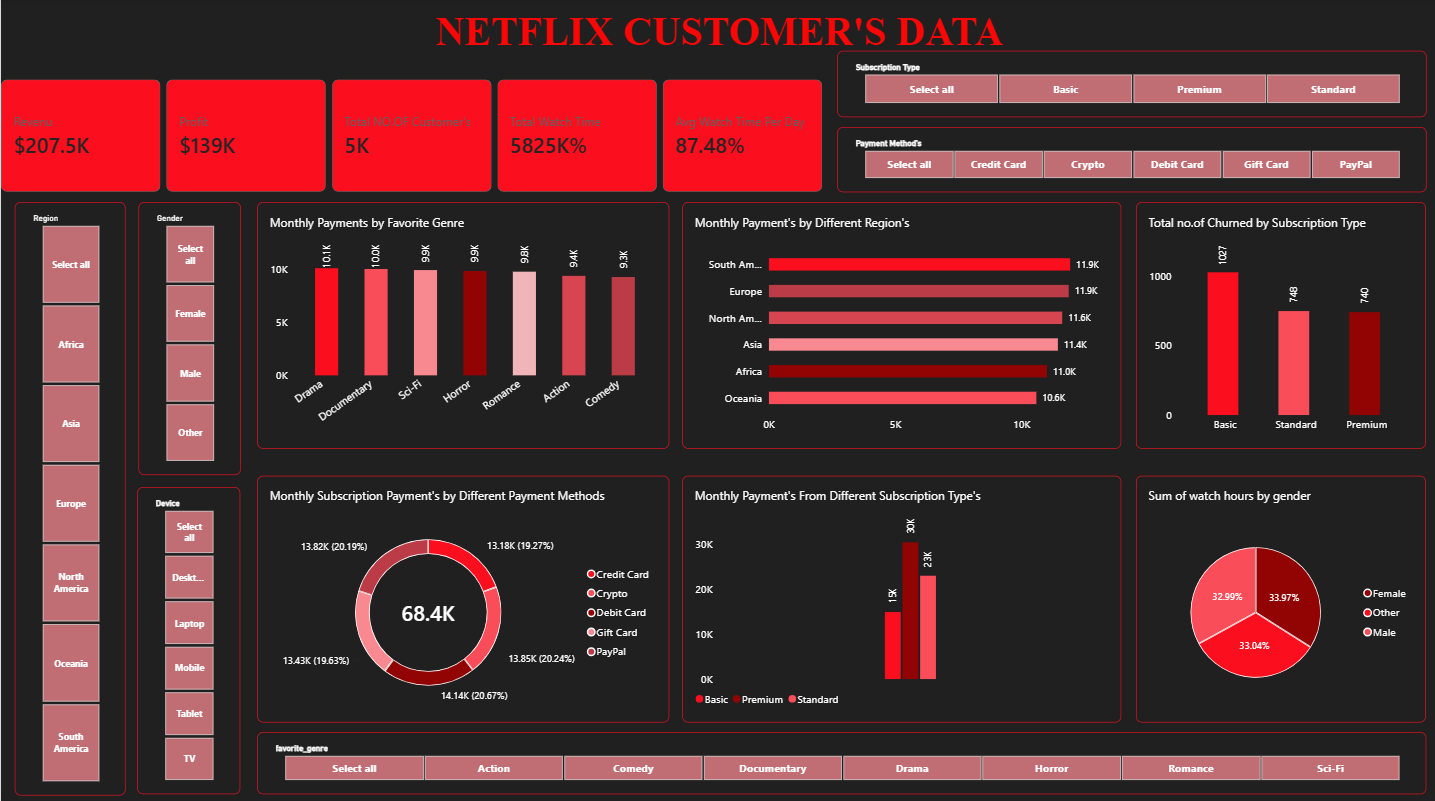

Layout of this report page (visuals, bound fields, positions):
{"tool":"powerbi","page":{"name":"Dashboard","canvas":[1920,1080],"ordinal":0},"visuals":[{"type":"textbox","box":[0,16.3,1920.1,68.8],"z":0},{"type":"cardVisual","fields":{"Data":["Measure.Revenu","Measure.Profit","Measure.Total NO.OF Customer's","Measure.Total Watch Time","Avg(netflix_customer_churn.avg_watch_time_per_day)"]},"box":[0,110,1098.5,150.2],"z":1000},{"type":"pieChart","fields":{"Category":["netflix_customer_churn.gender"],"Y":["Sum(netflix_customer_churn.watch_hours)"]},"box":[1516.5,638.8,387.3,329.4],"z":2000},{"type":"donutChart","fields":{"Series":["netflix_customer_churn.payment_method"],"Y":["Sum(netflix_customer_churn.monthly_fee)"]},"box":[342,638.8,550.1,329.4],"z":3000},{"type":"clusteredBarChart","fields":{"Category":["netflix_customer_churn.region"],"Y":["Sum(netflix_customer_churn.monthly_fee)"]},"box":[910.3,273.3,586.3,329.4],"z":4000},{"type":"clusteredColumnChart","fields":{"Series":["netflix_customer_churn.subscription_type"],"Y":["Sum(netflix_customer_churn.monthly_fee)"]},"box":[910.3,638.8,586.3,329.4],"z":5000},{"type":"clusteredColumnChart","fields":{"Category":["netflix_customer_churn.subscription_type"],"Y":["Sum(netflix_customer_churn.churned)"]},"box":[1516.5,273.3,387.3,329.4],"z":6000},{"type":"columnChart","fields":{"Category":["netflix_customer_churn.favorite_genre"],"Y":["Sum(netflix_customer_churn.monthly_fee)"]},"box":[342,273.3,550.1,329.4],"z":7000},{"type":"slicer","fields":{"Values":["netflix_customer_churn.gender"]},"box":[183.3,273.3,136.7,365],"z":8000},{"type":"slicer","fields":{"Values":["netflix_customer_churn.region"]},"box":[18.1,273.3,148.4,792.6],"z":8001},{"type":"slicer","fields":{"Values":["netflix_customer_churn.subscription_type"]},"box":[1116.6,72.4,787.2,88.7],"z":8002},{"type":"slicer","fields":{"Values":["netflix_customer_churn.payment_method"]},"box":[1116.6,173.7,787.2,86.9],"z":8003},{"type":"slicer","fields":{"Values":["netflix_customer_churn.favorite_genre"]},"box":[342,982.6,1561.7,83.2],"z":8004},{"type":"slicer","fields":{"Values":["netflix_customer_churn.device"]},"box":[182.8,655.1,137.5,410.8],"z":8005}]}

Visuals, with their boxes in screenshot pixels (x1, y1, x2, y2), scaled from the page's 1920x1080 canvas onto the 1435x801 screenshot:
textbox: pyautogui.locateOnScreen(0, 12, 1434, 63)
cardVisual - Measure.Revenu x Measure.Profit: pyautogui.locateOnScreen(0, 82, 821, 193)
pieChart - netflix_customer_churn.gender x Sum(netflix_customer_churn.watch_hours): pyautogui.locateOnScreen(1133, 474, 1423, 718)
donutChart - netflix_customer_churn.payment_method x Sum(netflix_customer_churn.monthly_fee): pyautogui.locateOnScreen(256, 474, 667, 718)
clusteredBarChart - netflix_customer_churn.region x Sum(netflix_customer_churn.monthly_fee): pyautogui.locateOnScreen(680, 203, 1119, 447)
clusteredColumnChart - netflix_customer_churn.subscription_type x Sum(netflix_customer_churn.monthly_fee): pyautogui.locateOnScreen(680, 474, 1119, 718)
clusteredColumnChart - netflix_customer_churn.subscription_type x Sum(netflix_customer_churn.churned): pyautogui.locateOnScreen(1133, 203, 1423, 447)
columnChart - netflix_customer_churn.favorite_genre x Sum(netflix_customer_churn.monthly_fee): pyautogui.locateOnScreen(256, 203, 667, 447)
slicer - netflix_customer_churn.gender: pyautogui.locateOnScreen(137, 203, 239, 473)
slicer - netflix_customer_churn.region: pyautogui.locateOnScreen(14, 203, 124, 791)
slicer - netflix_customer_churn.subscription_type: pyautogui.locateOnScreen(835, 54, 1423, 119)
slicer - netflix_customer_churn.payment_method: pyautogui.locateOnScreen(835, 129, 1423, 193)
slicer - netflix_customer_churn.favorite_genre: pyautogui.locateOnScreen(256, 729, 1423, 790)
slicer - netflix_customer_churn.device: pyautogui.locateOnScreen(137, 486, 239, 791)
